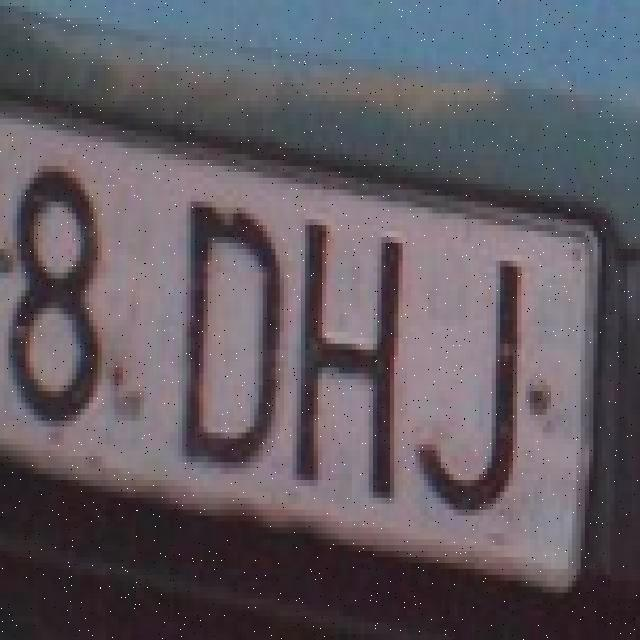LicensePlate: (1, 94, 604, 613)
